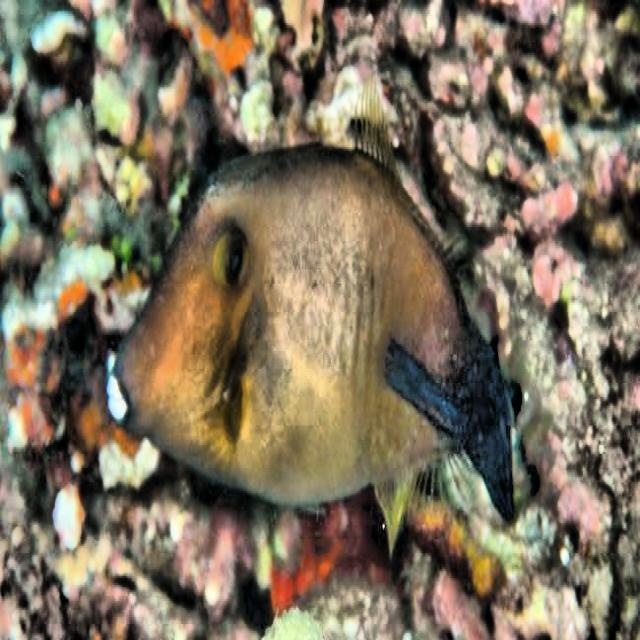fish: (96, 80, 518, 573)
